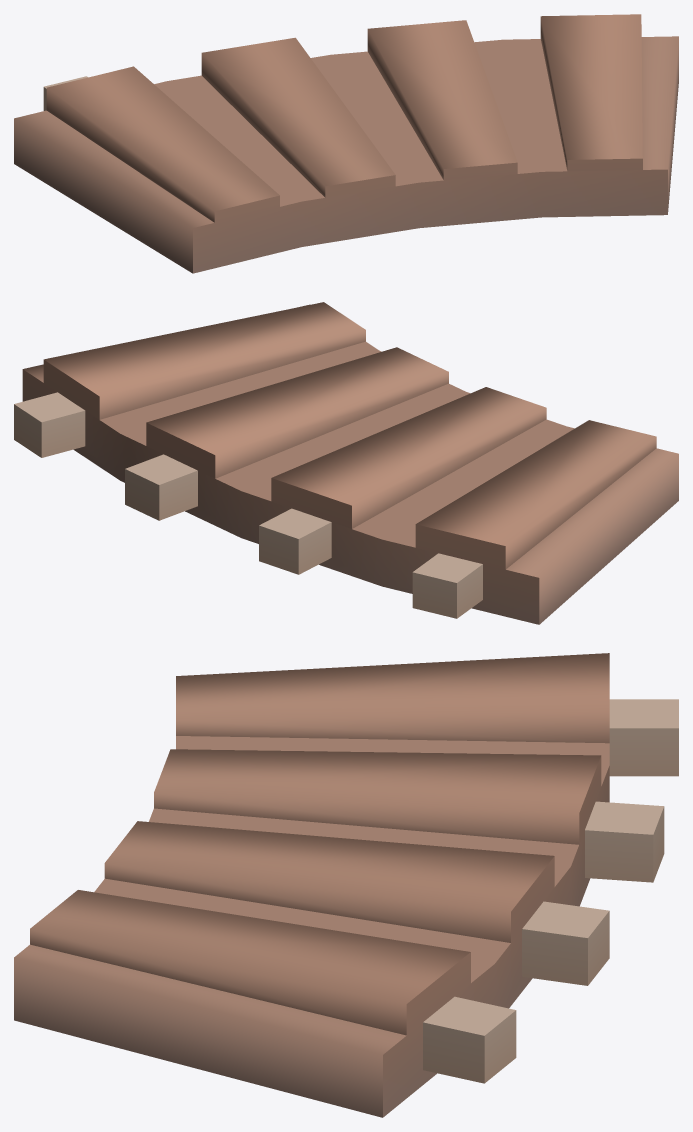
The model's file is meat-ribs.glb.
3 renders of one model, top to bottom at view 1: azimuth 30°, elevation 25°; view 2: azimuth 150°, elevation 25°; view 3: azimuth 270°, elevation 25°, orthographic. The views are drawn at different scales.
Parts seen in each view (by area): view 1: meat-ribs; view 2: meat-ribs; view 3: meat-ribs.
Boxes of the visible parts, x1,y1,x2,y2 form: meat-ribs: [14, 14, 678, 273]; meat-ribs: [14, 302, 678, 624]; meat-ribs: [14, 653, 678, 1117].
Bounding box in the file's own units: 0.5354 × 0.06 × 0.3834.
